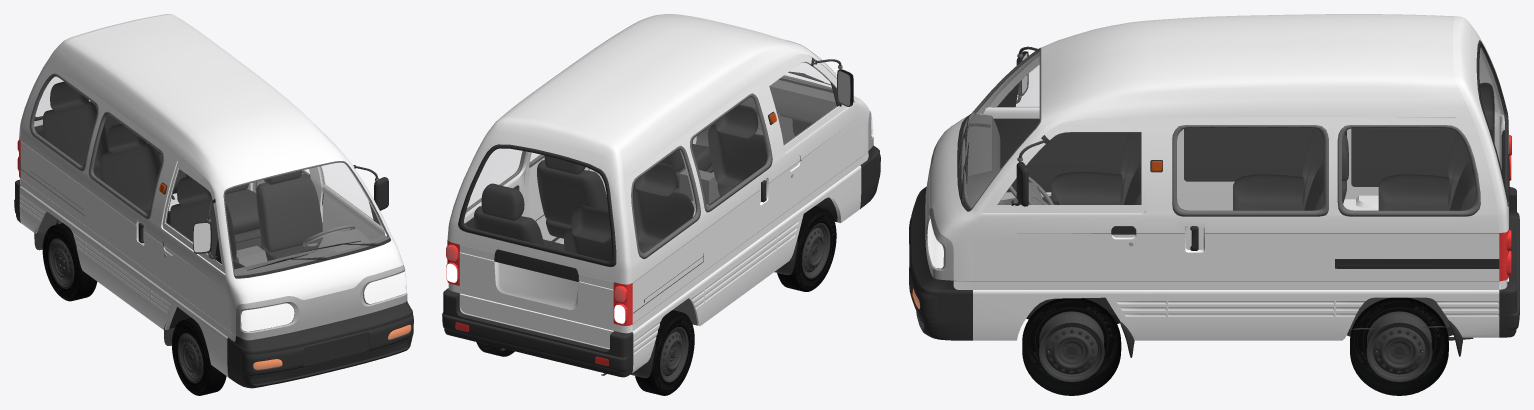
File: falcon.glb
3 renders of one model, left to right at view 1: azimuth 30°, elevation 25°; view 2: azimuth 150°, elevation 25°; view 3: azimuth 270°, elevation 25°, orthographic. The views are drawn at different scales.
Visible parts, largest first — view 1: Object_13, Object_17, Object_12, Object_15, Object_19, Object_21, Object_22, Object_11, Object_18, Object_23, Object_24, Object_25 (+4 smaller); view 2: Object_12, Object_13, Object_17, Object_15, Object_19, Object_11, Object_18, Object_22, Object_25, Object_27, Object_3, Object_24 (+2 smaller); view 3: Object_13, Object_12, Object_17, Object_14, Object_15, Object_19, Object_11, Object_22, Object_27, Object_25, Object_18, Object_24 (+3 smaller).
Part boxes in pixels (left/top/right/bottom): Object_13: left=19, top=15, right=403, bottom=341; Object_17: left=34, top=77, right=406, bottom=330; Object_12: left=19, top=14, right=386, bottom=376; Object_15: left=43, top=81, right=322, bottom=269; Object_19: left=14, top=116, right=413, bottom=388; Object_21: left=164, top=253, right=407, bottom=340; Object_22: left=29, top=73, right=404, bottom=331; Object_11: left=42, top=223, right=226, bottom=395; Object_18: left=234, top=225, right=386, bottom=274; Object_23: left=241, top=271, right=410, bottom=369; Object_24: left=38, top=212, right=408, bottom=384; Object_25: left=53, top=243, right=202, bottom=377; Object_12: left=447, top=55, right=861, bottom=347; Object_13: left=448, top=14, right=869, bottom=372; Object_17: left=464, top=62, right=872, bottom=260; Object_15: left=474, top=104, right=767, bottom=260; Object_19: left=442, top=69, right=880, bottom=378; Object_11: left=476, top=206, right=836, bottom=395; Object_18: left=679, top=77, right=836, bottom=204; Object_22: left=466, top=40, right=871, bottom=258; Object_25: left=661, top=228, right=824, bottom=376; Object_27: left=660, top=61, right=830, bottom=382; Object_3: left=446, top=240, right=632, bottom=365; Object_24: left=500, top=197, right=837, bottom=375; Object_13: left=928, top=14, right=1507, bottom=340; Object_12: left=973, top=16, right=1508, bottom=340; Object_17: left=928, top=47, right=1505, bottom=267; Object_14: left=993, top=118, right=1504, bottom=204; Object_15: left=1051, top=82, right=1494, bottom=210; Object_19: left=909, top=40, right=1519, bottom=357; Object_11: left=1022, top=297, right=1448, bottom=395; Object_22: left=932, top=47, right=1480, bottom=269; Object_27: left=1039, top=140, right=1432, bottom=381; Object_25: left=1045, top=327, right=1425, bottom=374; Object_18: left=965, top=114, right=1053, bottom=206; Object_24: left=923, top=297, right=1473, bottom=370.
Bounding box in the file's own units: 0.2442 × 0.2893 × 0.5223.
16 materials, 1 textured.
